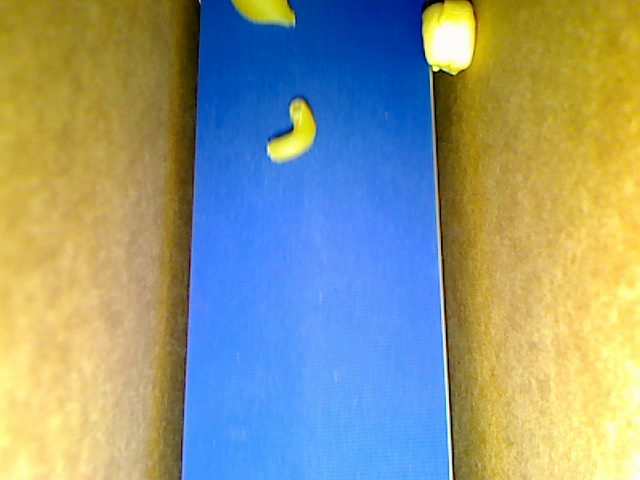elbow: (266, 98, 316, 163)
shell: (230, 1, 297, 30)
